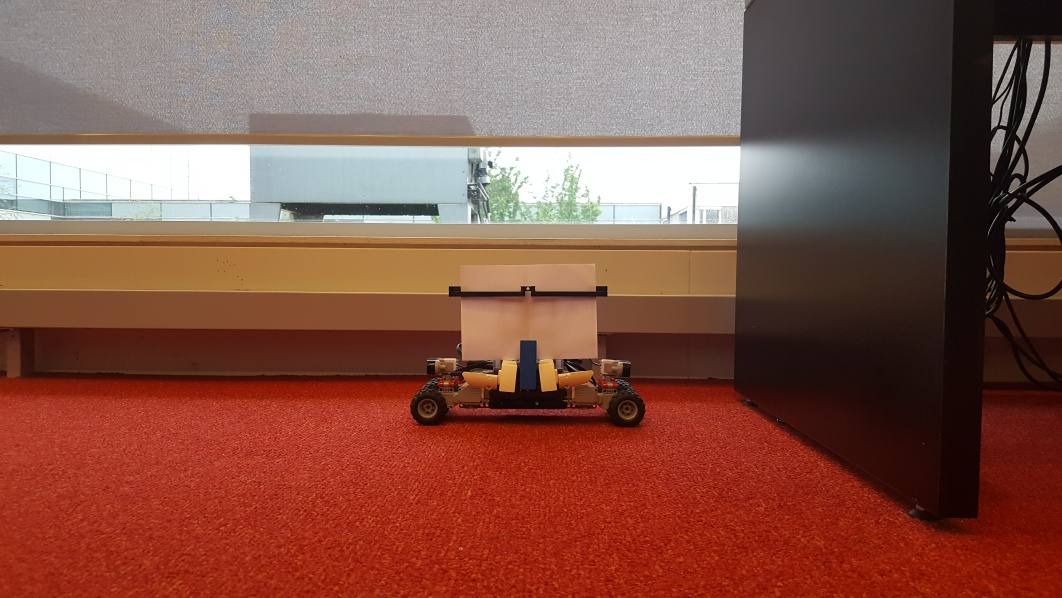car: (412, 262, 647, 426)
